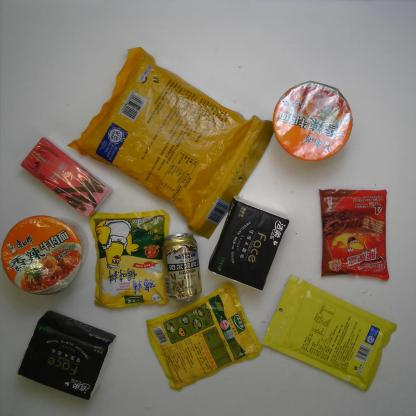Alcohol: (162, 232, 201, 302)
Dessert: (319, 188, 390, 282)
Dried Food: (67, 47, 276, 239)
Dried Fruit: (262, 277, 397, 391)
Instant Drink: (20, 136, 113, 219)
Instant Noodles: (272, 81, 354, 161), (2, 216, 83, 294)
Seasoner: (146, 281, 262, 390), (88, 211, 171, 308)
Tissue: (16, 311, 117, 400), (207, 196, 288, 290)
